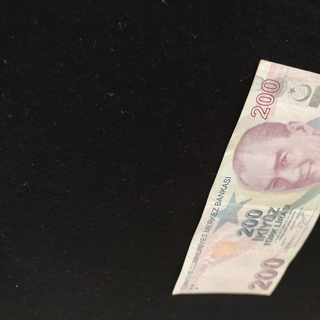200TLFront: (171, 58, 320, 296)
